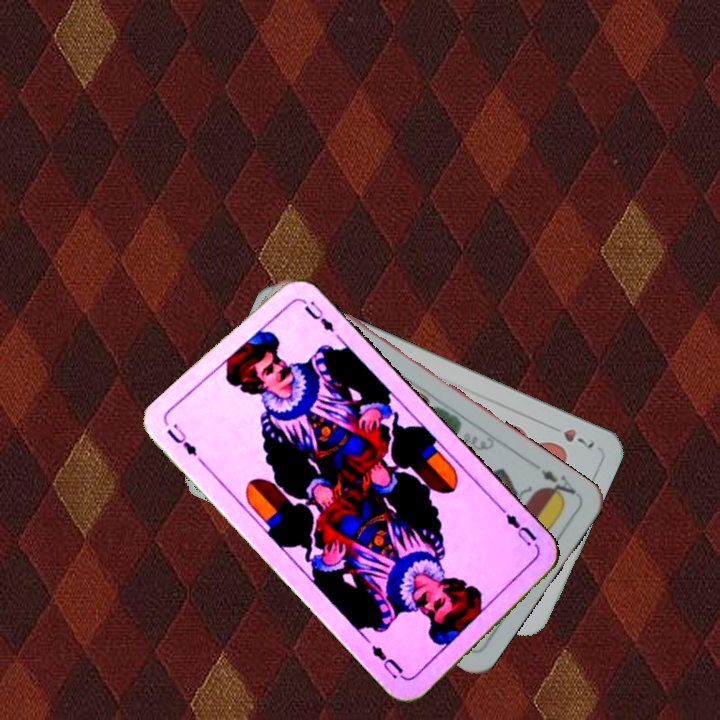EA: (529, 459, 581, 503)
EU: (498, 505, 540, 549), (162, 419, 200, 460)
H7: (543, 420, 598, 451)
